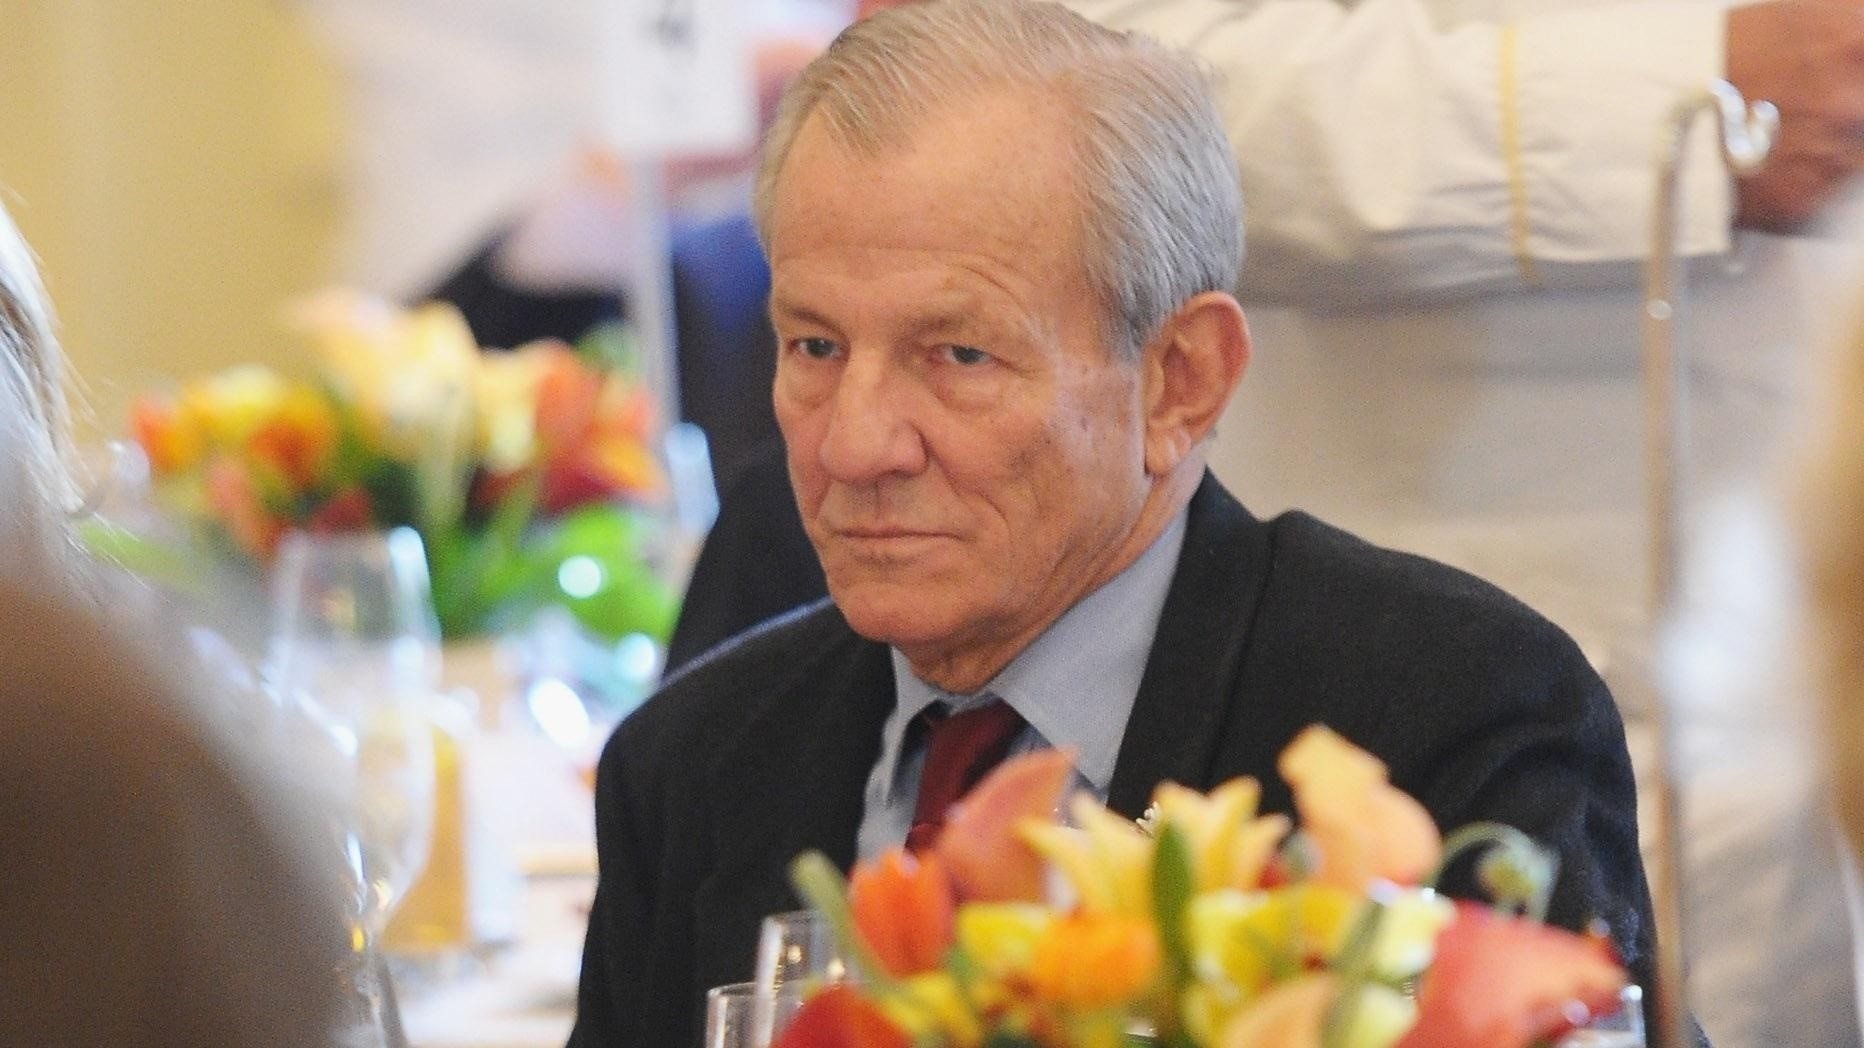face_no_mask: (750, 67, 1254, 668)
